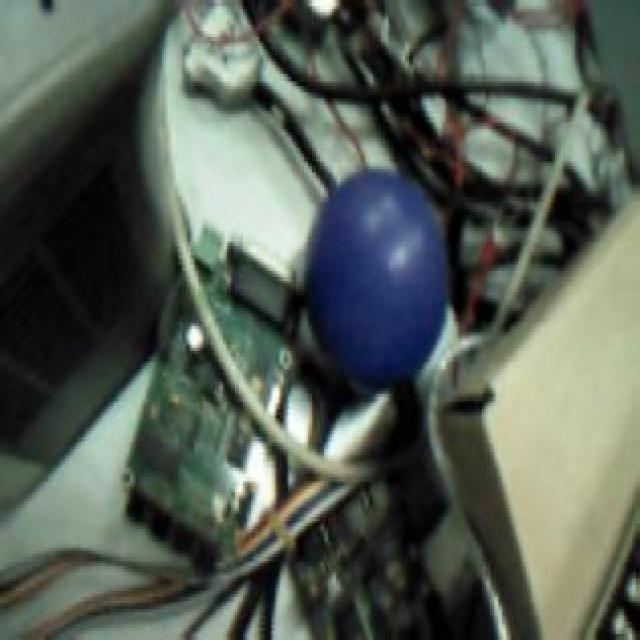BallPurple: (303, 167, 449, 380)
